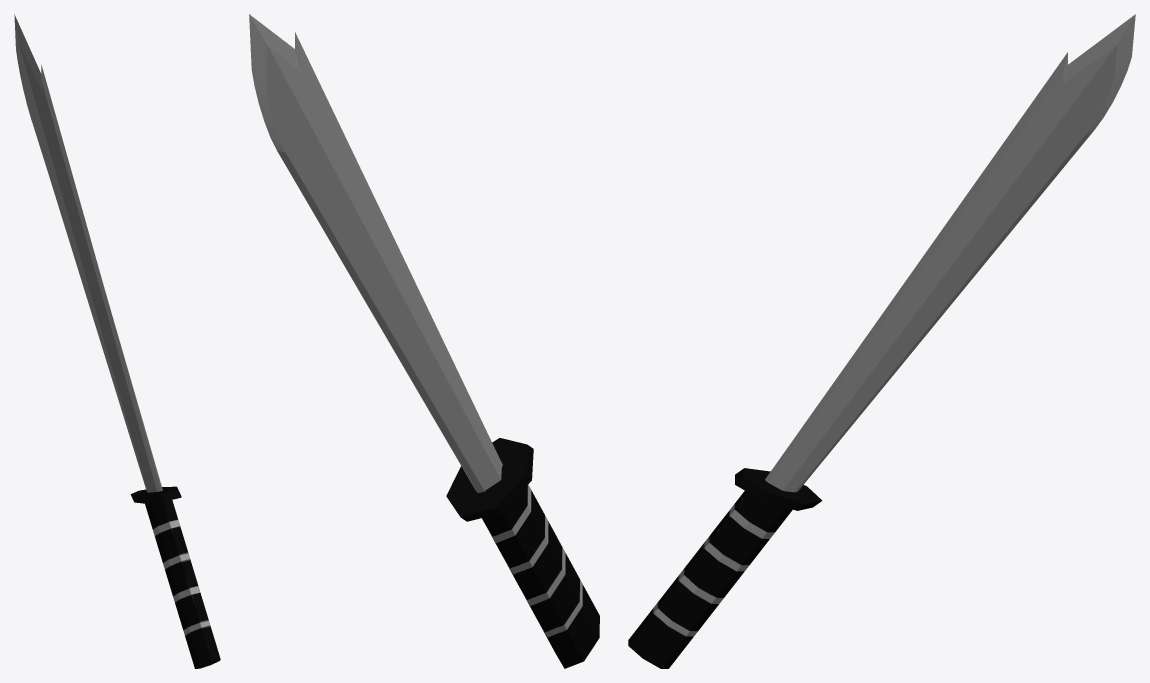
Rendered from Blade.fbx.
3 views of the same model, side by side, from view 1: azimuth 30°, elevation 25°; view 2: azimuth 150°, elevation 25°; view 3: azimuth 270°, elevation 25° (orthographic). The views are drawn at different scales.
Visible parts, largest first — view 1: Blade.001; view 2: Blade.001; view 3: Blade.001.
Boxes of the visible parts, box(x1,y1,x2,y2) form: Blade.001: box(14, 14, 220, 668); Blade.001: box(249, 14, 599, 668); Blade.001: box(628, 14, 1135, 668).
Bounding box in the file's own units: 24.27 × 332 × 233.
1 material, 1 textured.
